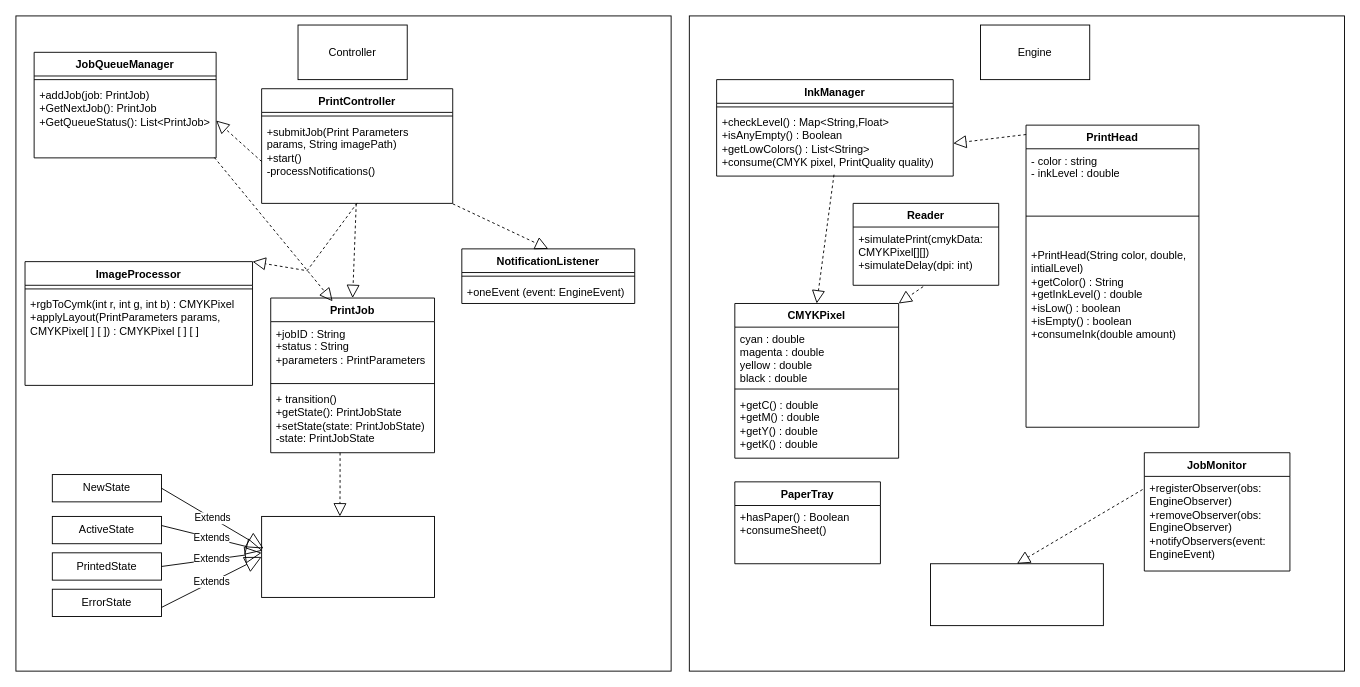
The diagram is 1360 pixels wide and 687 high, and some of its shapes have lost their labels. The shapes that lost their labels are listed below. From the top down, each one's centre as x and y in pixels, then its label:
At (x=348, y=556): "<<Interface>> PrintJobState +getStateName(): String +handle(job : PrintJob)".
At (x=1016, y=594): "<<Interface>> EngineObserver +onEvent(event: EngineEvent)".
